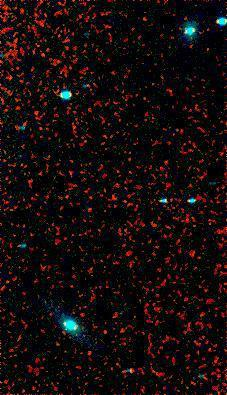star: (74, 196, 104, 226)
